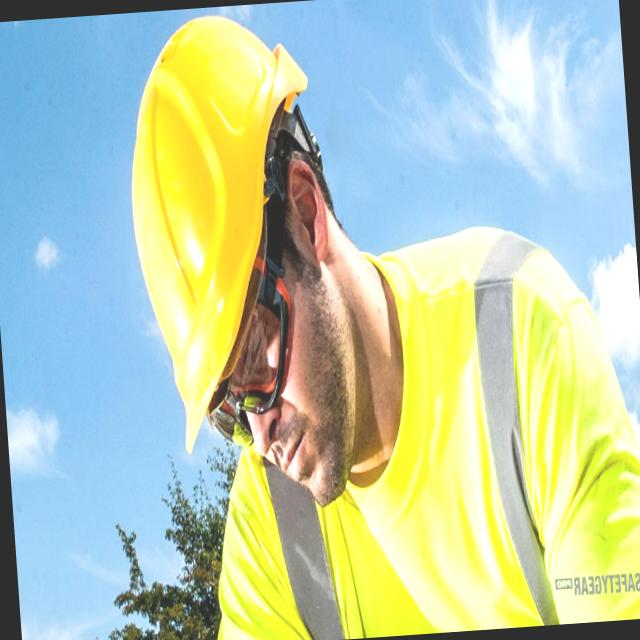goggles: (182, 268, 320, 463)
helmet: (114, 13, 332, 454)
vest: (350, 209, 640, 637)
